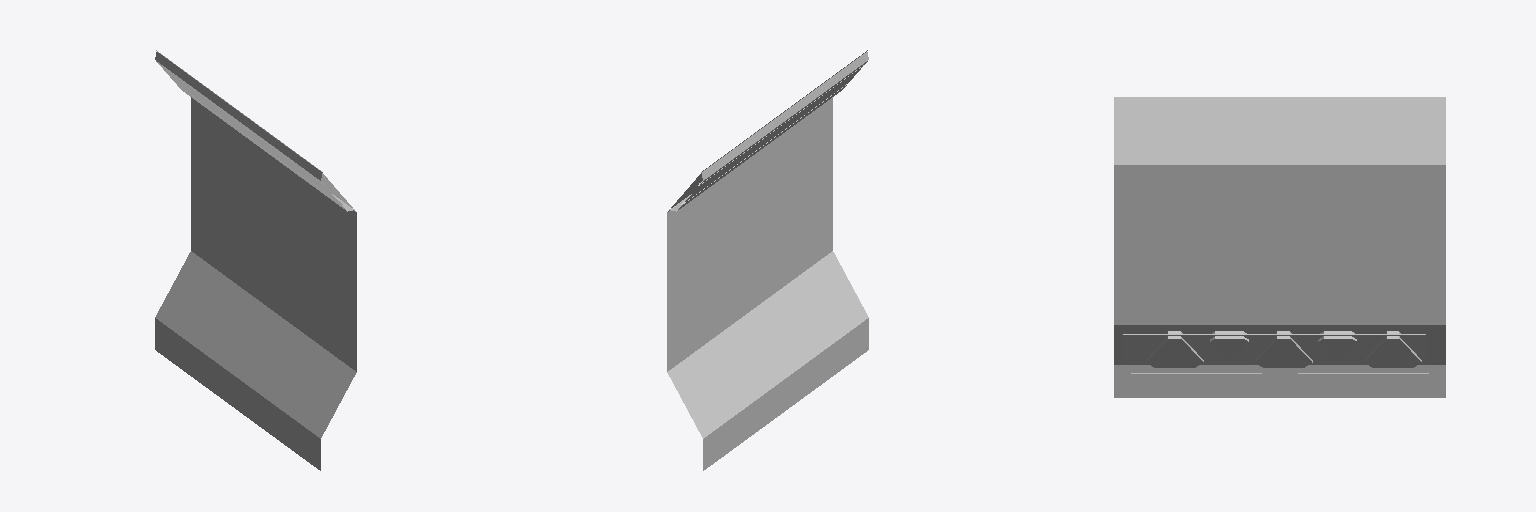
File: interior_wall_panel.obj
3 renders of one model, left to right at view 1: azimuth 30°, elevation 25°; view 2: azimuth 150°, elevation 25°; view 3: azimuth 270°, elevation 25°, orthographic.
Parts seen in each view (by area): view 1: Plane; view 2: Plane; view 3: Plane, Cylinder.
Boxes of the visible parts, x1,y1,x2,y2 form: Plane: [155, 50, 356, 470]; Plane: [667, 50, 868, 470]; Plane: [1114, 97, 1445, 397]; Cylinder: [1123, 334, 1425, 364].
Size of the model in its own units: 0.5053 by 4 by 4.